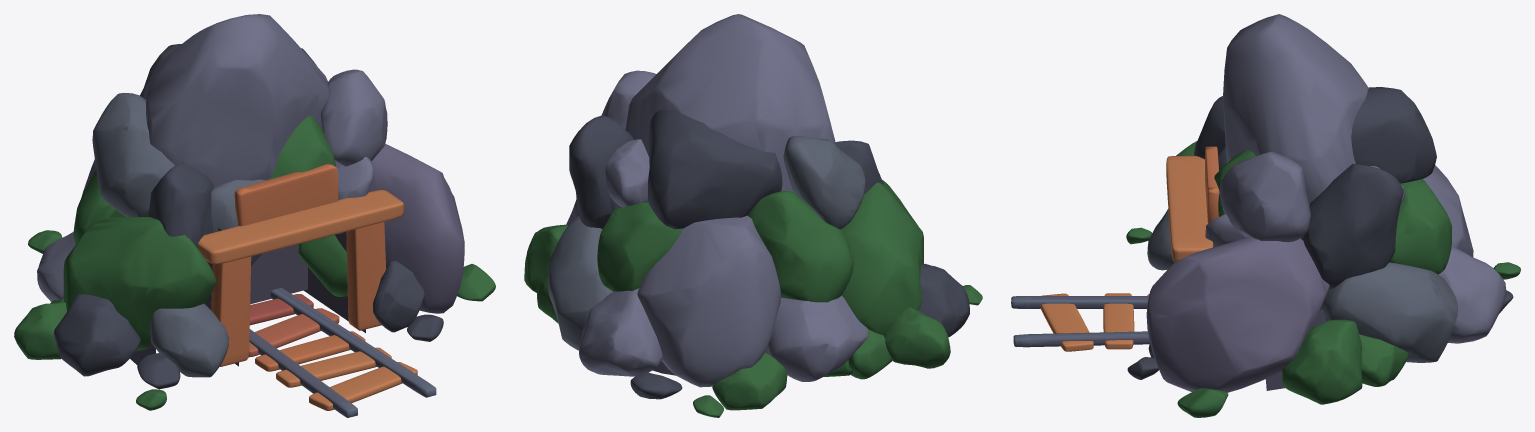
Rendered from Mine.fbx.
3 renders of one model, left to right at view 1: azimuth 30°, elevation 25°; view 2: azimuth 150°, elevation 25°; view 3: azimuth 270°, elevation 25°, orthographic.
Parts seen in each view (by area): view 1: Cube.003, Cube.004, Cube.005, Cube, Cube.032, Cube.001, Cube.031, Cube.012, Cube.010, Cube.018, Cube.002, Cube.008 (+20 smaller); view 2: Cube.003, Cube.006, Cube.030, Cube.004, Cube.028, Cube.011, Cube.027, Cube.032, Cube.007, Cube.026, Cube.029, Cube.038 (+10 smaller); view 3: Cube.005, Cube.003, Cube.007, Cube.029, Cube.031, Cube.030, Cube.014, Cube.026, Cube.027, Cube.001, Cube.018, Cube.034 (+10 smaller).
Part boxes in pixels (x1=…): Cube.003: x1=146, y1=14, x2=328, y2=265; Cube.004: x1=63, y1=217, x2=216, y2=350; Cube.005: x1=369, y1=144, x2=464, y2=313; Cube: x1=211, y1=222, x2=385, y2=366; Cube.032: x1=92, y1=93, x2=174, y2=216; Cube.001: x1=198, y1=190, x2=403, y2=264; Cube.031: x1=321, y1=69, x2=387, y2=166; Cube.012: x1=53, y1=294, x2=140, y2=376; Cube.010: x1=150, y1=303, x2=229, y2=377; Cube.018: x1=249, y1=288, x2=436, y2=417; Cube.002: x1=234, y1=163, x2=338, y2=226; Cube.008: x1=147, y1=162, x2=213, y2=247; Cube.003: x1=625, y1=14, x2=835, y2=194; Cube.006: x1=637, y1=215, x2=780, y2=387; Cube.030: x1=648, y1=109, x2=782, y2=229; Cube.004: x1=841, y1=180, x2=923, y2=335; Cube.028: x1=748, y1=191, x2=853, y2=302; Cube.011: x1=767, y1=295, x2=868, y2=381; Cube.027: x1=579, y1=288, x2=662, y2=376; Cube.032: x1=783, y1=136, x2=865, y2=229; Cube.007: x1=548, y1=216, x2=612, y2=350; Cube.026: x1=597, y1=202, x2=682, y2=291; Cube.029: x1=569, y1=115, x2=633, y2=228; Cube.038: x1=884, y1=307, x2=950, y2=368; Cube.005: x1=1146, y1=237, x2=1329, y2=392; Cube.003: x1=1223, y1=14, x2=1368, y2=239; Cube.007: x1=1320, y1=262, x2=1457, y2=362; Cube.029: x1=1302, y1=164, x2=1403, y2=289; Cube.031: x1=1219, y1=152, x2=1310, y2=242; Cube.030: x1=1351, y1=87, x2=1436, y2=183; Cube.014: x1=1282, y1=319, x2=1362, y2=404; Cube.026: x1=1389, y1=179, x2=1451, y2=274; Cube.027: x1=1438, y1=247, x2=1506, y2=343; Cube.001: x1=1166, y1=155, x2=1213, y2=261; Cube.018: x1=1011, y1=296, x2=1149, y2=347; Cube.034: x1=1359, y1=334, x2=1409, y2=386.
Size of the model in its own units: 672 by 481 by 700.
